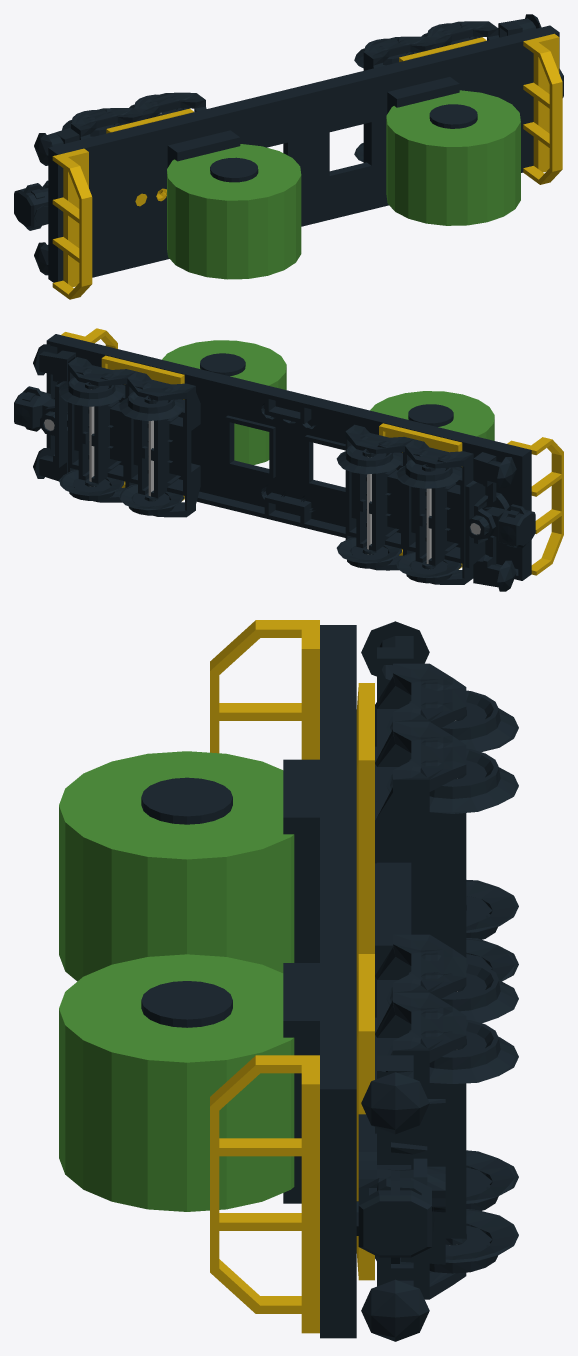
Rendered from cable-drum-wagon.glb.
The picture shows the model from 3 angles, top to bottom: view 1: azimuth 30°, elevation 25°; view 2: azimuth 150°, elevation 25°; view 3: azimuth 270°, elevation 25°; orthographic projection. The views are drawn at different scales.
Size of the model in its own units: 204 by 52 by 80.4.
